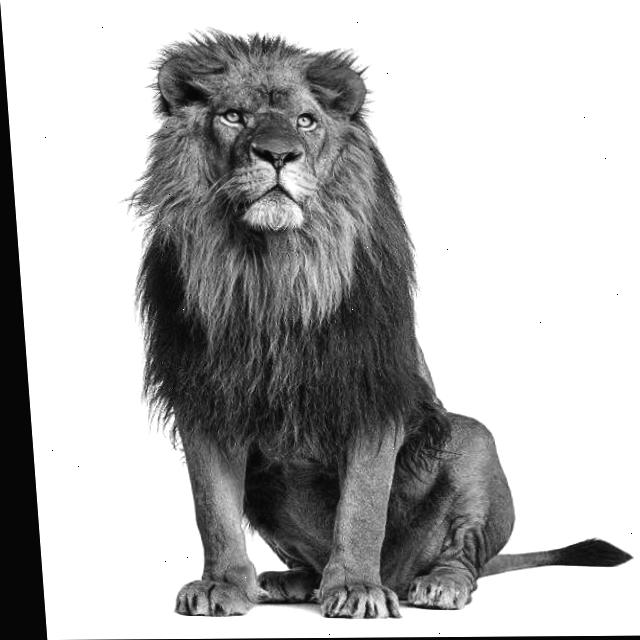Lion: (99, 42, 615, 639)
